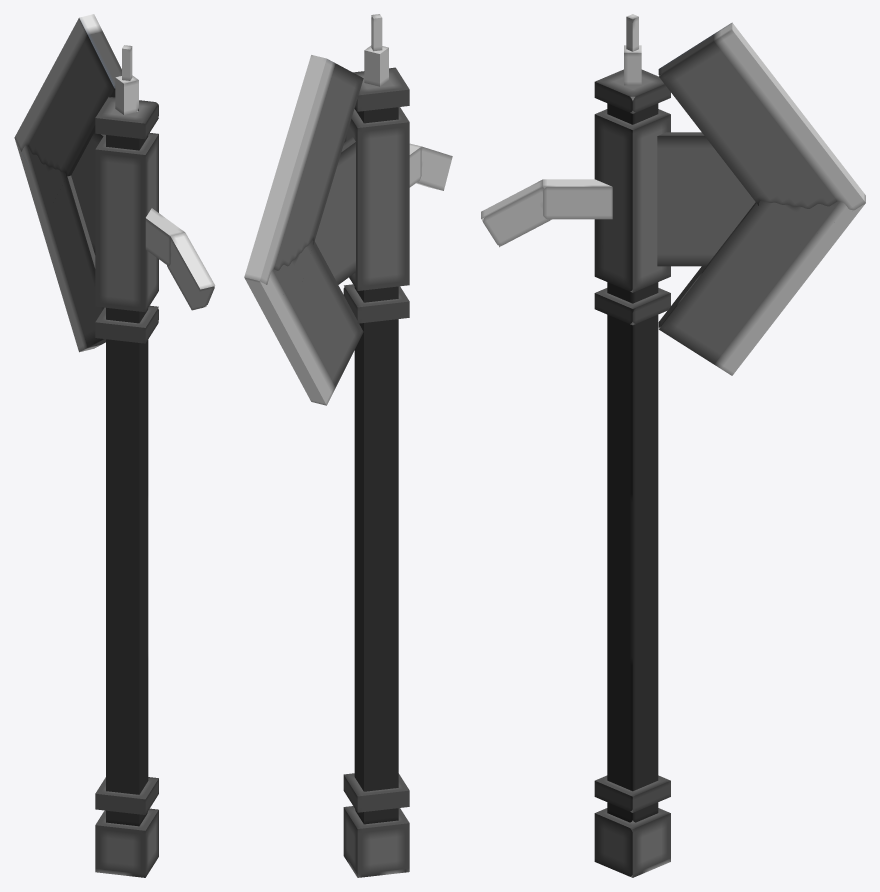
File: halberd.obj
3 renders of one model, left to right at view 1: azimuth 30°, elevation 25°; view 2: azimuth 150°, elevation 25°; view 3: azimuth 270°, elevation 25°, orthographic. The views are drawn at different scales.
Visible parts, largest first — view 1: bow_Mesh_0.001; view 2: bow_Mesh_0.001; view 3: bow_Mesh_0.001.
Boxes of the visible parts, x1=… form: bow_Mesh_0.001: x1=14, y1=14, x2=215, y2=877; bow_Mesh_0.001: x1=244, y1=14, x2=452, y2=877; bow_Mesh_0.001: x1=481, y1=14, x2=865, y2=877.
Size of the model in its own units: 0.5303 by 6.5 by 2.68.
1 material, 1 textured.
